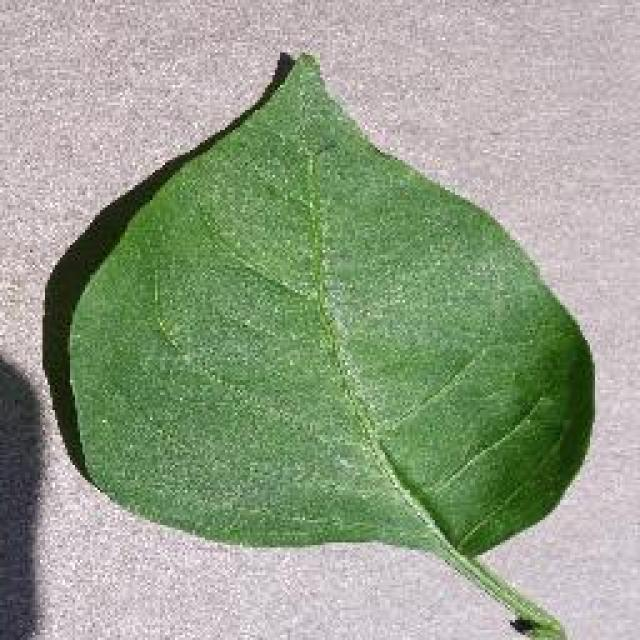Chilli_Healthy: (40, 48, 598, 638)
